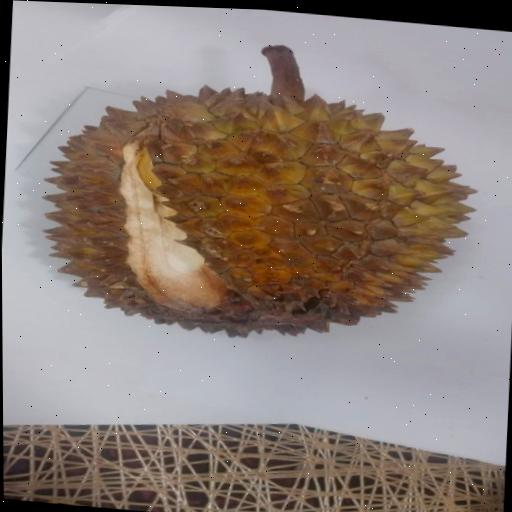rot: (0, 0, 506, 379)
